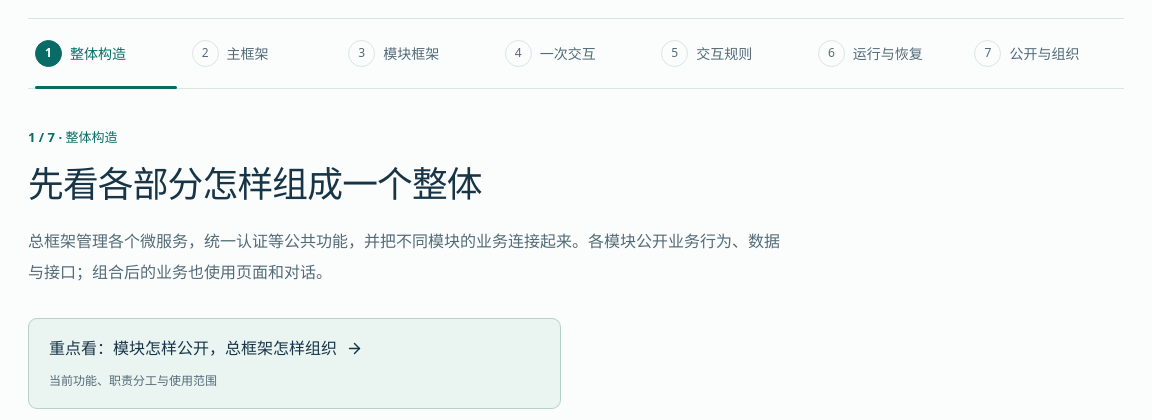
Scenario: framework structure explanation › shows version without inventing a successful write
Click the button "4 一次交互" at (576, 54), box [498, 19, 654, 88]
(page scrolled)
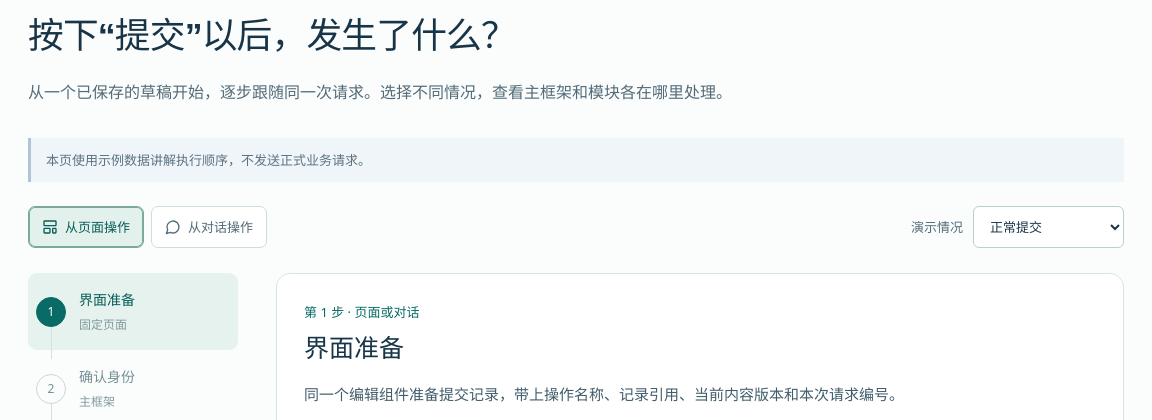
Select "内容版本已经变化" in the dropdown labelled "演示情况" at (1048, 227), box [973, 206, 1124, 248]
(page scrolled)
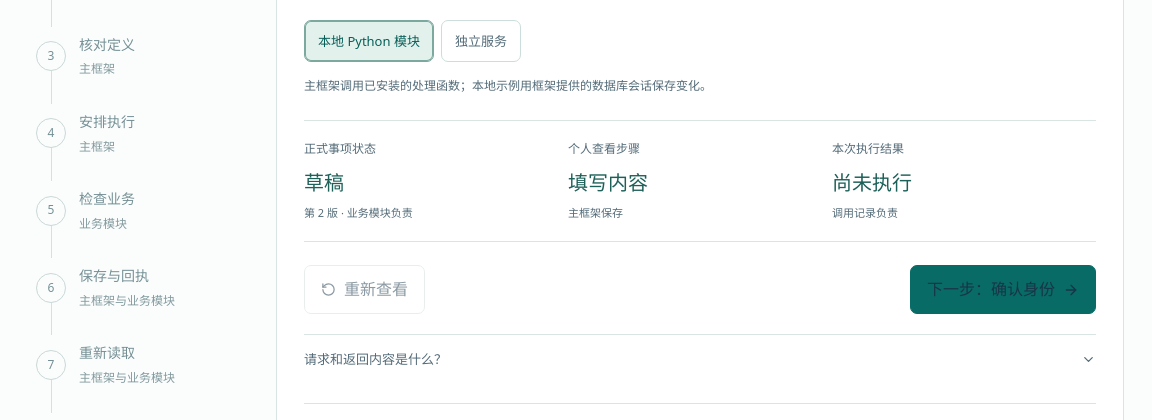
Click the button "下一步：确认身份" at (1003, 290), box [910, 265, 1096, 314]
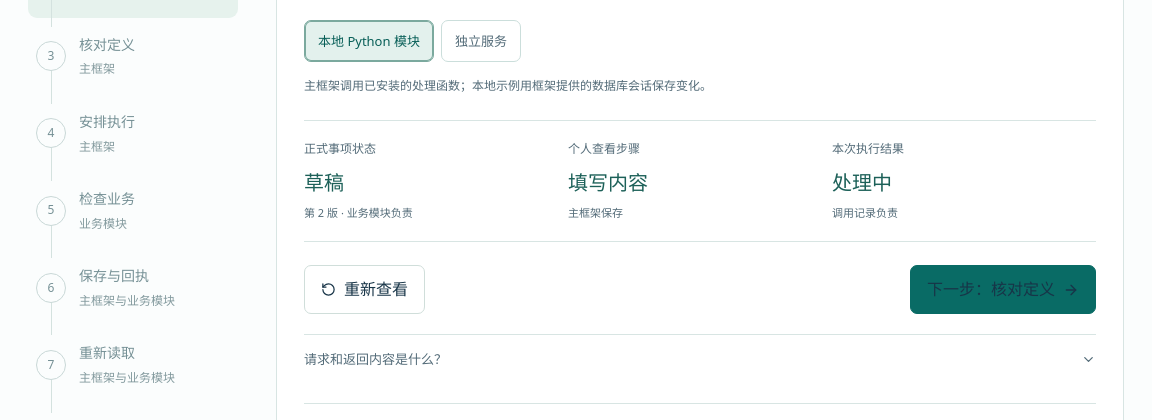
Click the button "下一步：核对定义" at (1003, 290), box [910, 265, 1096, 314]
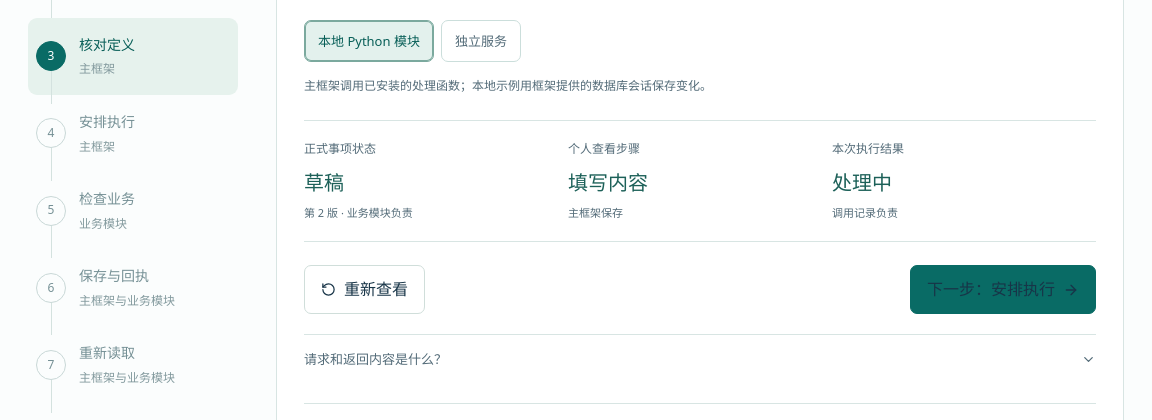
Click the button "下一步：安排执行" at (1003, 290), box [910, 265, 1096, 314]
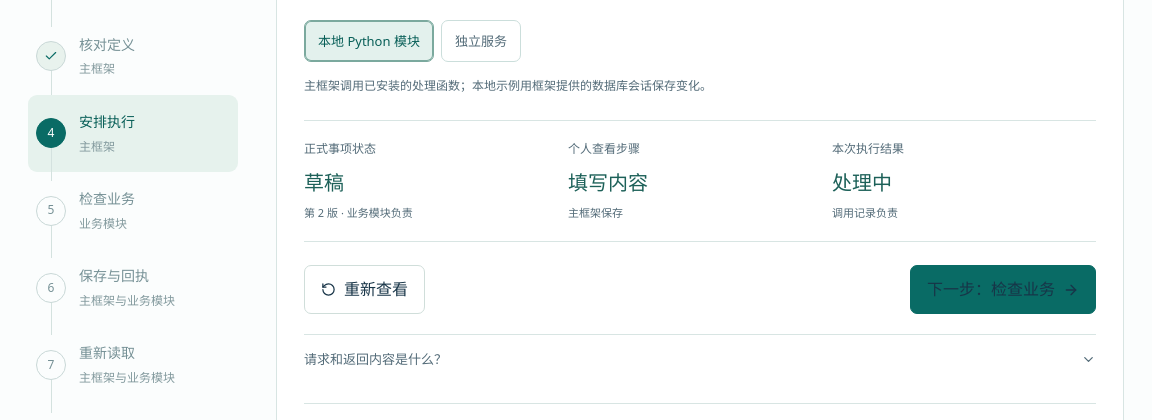
Click the button "下一步：检查业务" at (1003, 290), box [910, 265, 1096, 314]
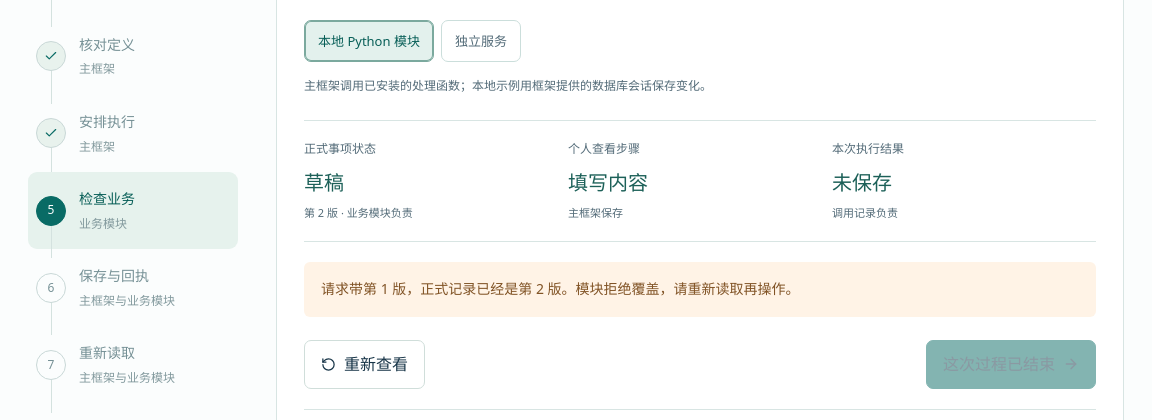
Expected: the text "草稿" is shown, [304, 170, 344, 196]
Expected: the text "未保存" is shown, [832, 170, 892, 196]
Expected: the button "这次过程已结束" is disabled, [926, 340, 1096, 389]
